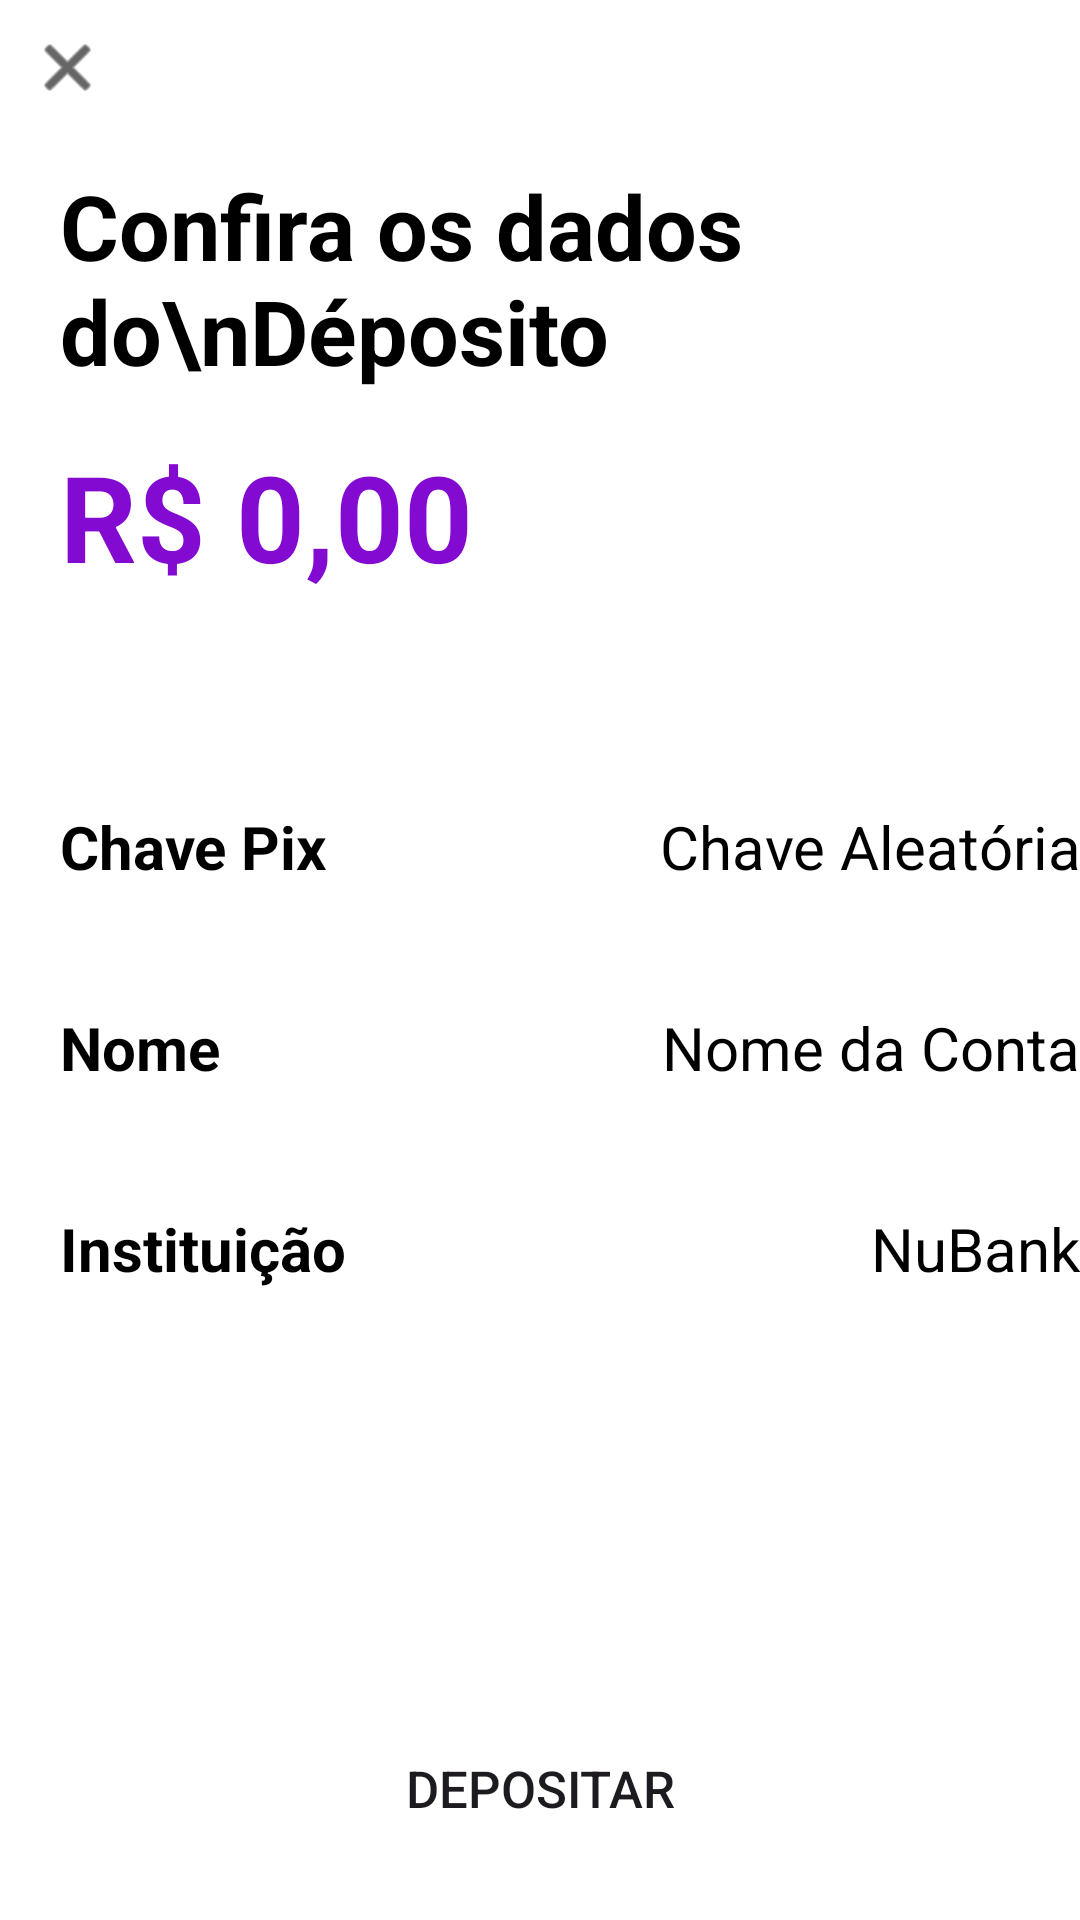

Where icons sit on this 1080w x 1920h app screen, as (x1, y1, x2, y2):
close clear cancel: (44, 44, 91, 91)
